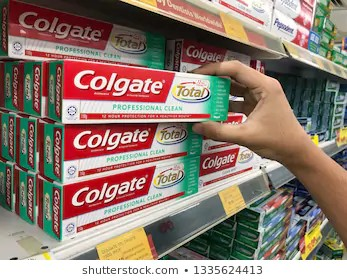colgate-medium: (38, 162, 203, 243), (41, 120, 206, 183), (46, 73, 229, 122), (7, 10, 171, 61)
